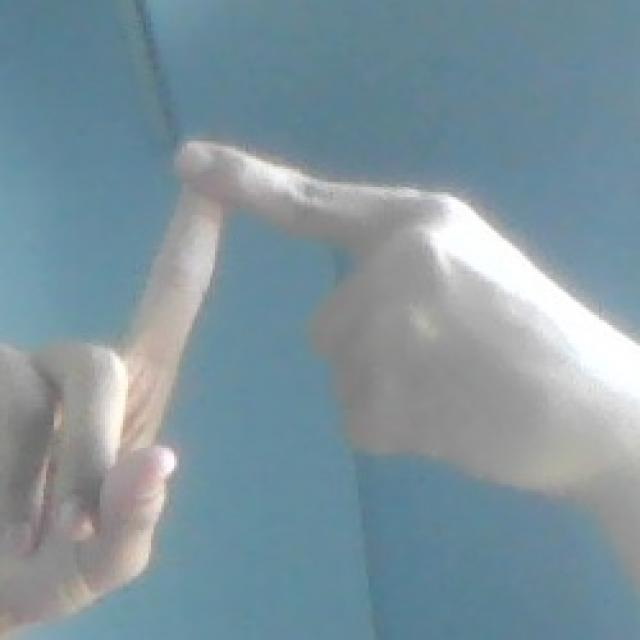Alphabet-E: (5, 97, 640, 640)
